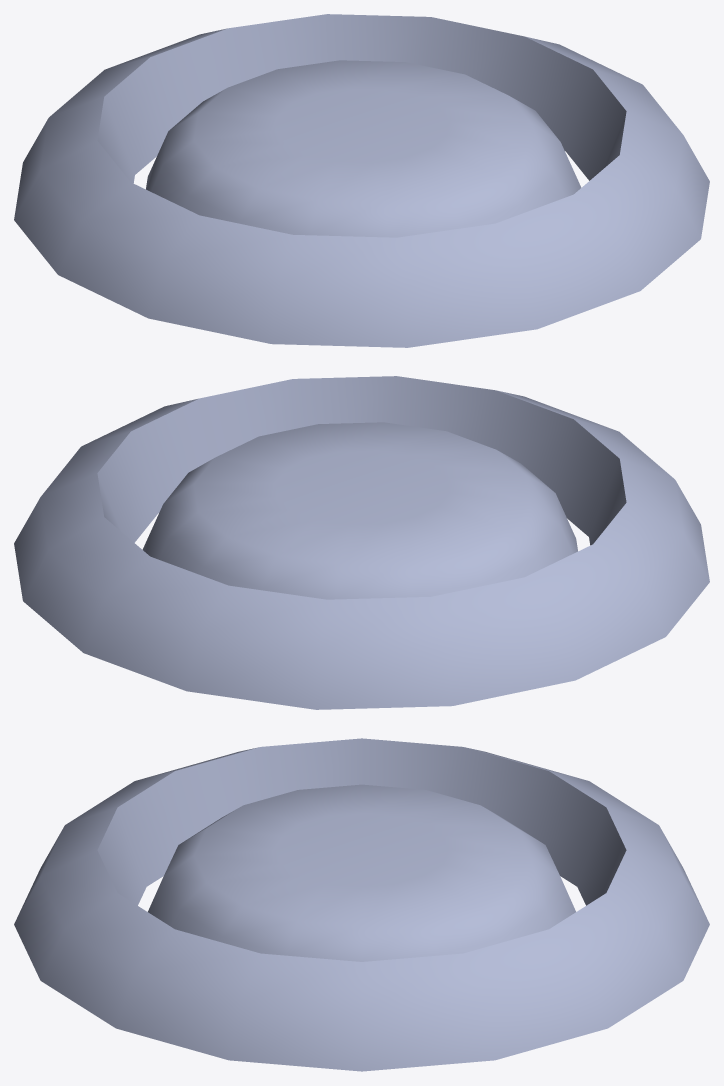
Rendered from RadioButton.fbx.
The picture shows the model from 3 angles, top to bottom: view 1: azimuth 30°, elevation 25°; view 2: azimuth 150°, elevation 25°; view 3: azimuth 270°, elevation 25°; orthographic projection.
Visible parts, largest first — view 1: Circle_001, Circle_002; view 2: Circle_001, Circle_002; view 3: Circle_001, Circle_002.
Boxes of the visible parts, <box> form: Circle_001: <box>14,14,709,347</box>; Circle_002: <box>146,60,581,237</box>; Circle_001: <box>14,376,709,709</box>; Circle_002: <box>142,422,577,599</box>; Circle_001: <box>14,738,709,1071</box>; Circle_002: <box>148,784,575,961</box>.
Size of the model in its own units: 2 by 0.2356 by 2.
